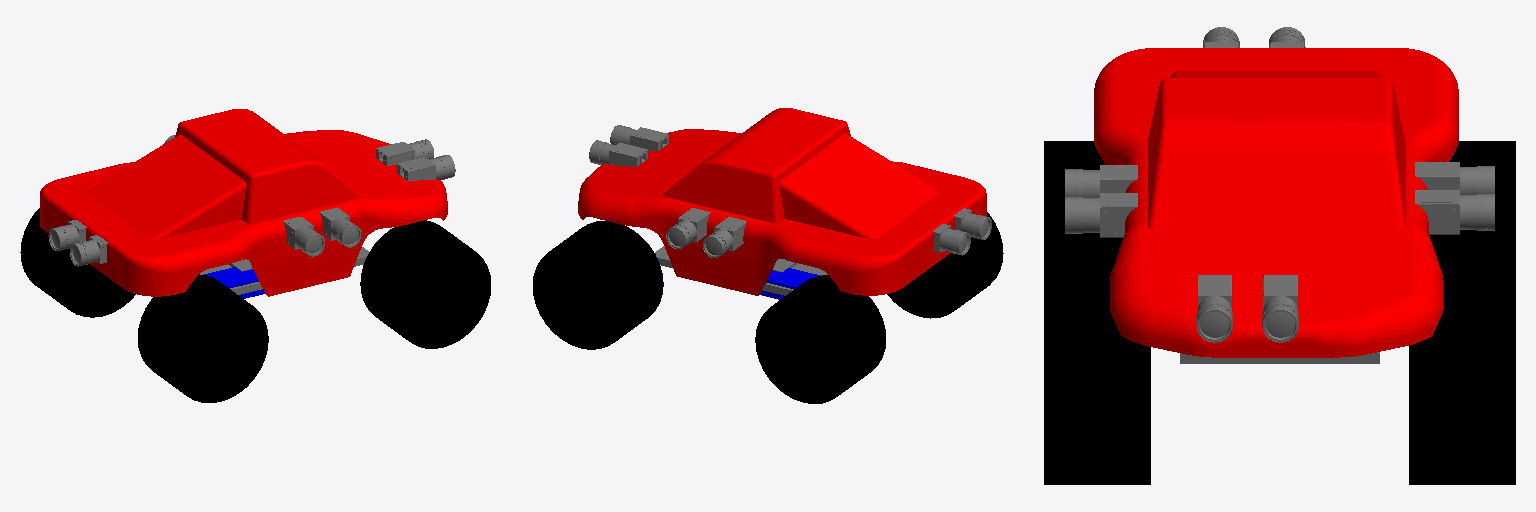
--- Facts derived from the render (not from the file) ---
Views: 3 orthographic renders of the robot side by side, from view 1: azimuth 30°, elevation 25°; view 2: azimuth 150°, elevation 25°; view 3: azimuth 270°, elevation 25°.
Model em_3905 with 29 links and 28 joints (2 revolute, 4 continuous, 4 prismatic, 18 fixed), rooted at base_link, posed all joints at 0.
Links seen in each view (by area): view 1: body, right_front_wheel, right_rear_wheel, left_rear_wheel, basler_basler_r, stereo_basler2, basler2_basler_r, stereo_basler, stereo_basler3, basler3_basler_r, right_battery; view 2: body, left_front_wheel, left_rear_wheel, right_rear_wheel, stereo_basler, basler4_basler_r, stereo_basler4, basler_basler_r, basler3_basler_r, stereo_basler3, left_battery, chassis; view 3: body, left_front_wheel, right_front_wheel, left_rear_wheel, right_rear_wheel, basler4_basler_r, stereo_basler2, stereo_basler, basler_basler_r, stereo_basler4, basler2_basler_r, chassis (+2 smaller).
Boxes of the visible links, bbox=[...] form: body: bbox=[40, 109, 447, 296]; right_front_wheel: bbox=[360, 220, 490, 348]; right_rear_wheel: bbox=[138, 274, 268, 402]; left_rear_wheel: bbox=[20, 208, 135, 317]; basler_basler_r: bbox=[397, 155, 455, 180]; stereo_basler2: bbox=[319, 207, 361, 247]; basler2_basler_r: bbox=[283, 217, 324, 256]; stereo_basler: bbox=[376, 139, 433, 165]; stereo_basler3: bbox=[70, 235, 107, 266]; basler3_basler_r: bbox=[48, 220, 86, 250]; right_battery: bbox=[204, 267, 265, 298]; body: bbox=[578, 108, 986, 295]; left_front_wheel: bbox=[533, 221, 663, 349]; left_rear_wheel: bbox=[755, 275, 885, 403]; right_rear_wheel: bbox=[887, 212, 1003, 318]; stereo_basler: bbox=[589, 140, 647, 166]; basler4_basler_r: bbox=[666, 208, 710, 249]; stereo_basler4: bbox=[703, 217, 746, 257]; basler_basler_r: bbox=[610, 125, 668, 151]; basler3_basler_r: bbox=[933, 224, 970, 255]; stereo_basler3: bbox=[954, 208, 991, 239]; left_battery: bbox=[759, 268, 820, 299]; chassis: bbox=[655, 246, 827, 295]; body: bbox=[1094, 48, 1458, 357]; left_front_wheel: bbox=[1409, 311, 1515, 484]; right_front_wheel: bbox=[1044, 311, 1150, 484]; left_rear_wheel: bbox=[1429, 141, 1515, 310]; right_rear_wheel: bbox=[1044, 141, 1122, 310]; basler4_basler_r: bbox=[1415, 190, 1494, 234]; stereo_basler2: bbox=[1065, 193, 1137, 237]; stereo_basler: bbox=[1262, 275, 1298, 342]; basler_basler_r: bbox=[1196, 275, 1232, 342]; stereo_basler4: bbox=[1415, 162, 1494, 194]; basler2_basler_r: bbox=[1065, 165, 1137, 197]; chassis: bbox=[1180, 352, 1379, 363].
Size in the robot's own frame: 0.56 by 0.3939 by 0.2619 metres.
Meshes: 2 distinct files referenced, 9 mesh visuals loaded (2 binary STL).

The robot description file, URDF, robot "em_3905":
<?xml version="1.0" ?>
<!-- =================================================================================== -->
<!-- |    This document was autogenerated by xacro from em_3905.urdf.xacro             | -->
<!-- |    EDITING THIS FILE BY HAND IS NOT RECOMMENDED                                 | -->
<!-- =================================================================================== -->
<!-- em_3905.urdf.xacro

This file defines a model of a Traxxas(R) E-Maxx(R) #3905 RC (Radio Controlled)
truck.

Lengths are measured in meters, angles are measured in radians, and masses are
measured in kilograms. All of these values are approximations.

To work with Gazebo, each link must have an inertial element, even if
the link only serves to connect two joints. To be visible in Gazebo, a link
must have a collision element. Furthermore, the link must have a Gazebo
material.

Traxxas(R), E-Maxx(R), and Titan(R) are registered trademarks of Traxxas
Management, LLC. em_3905.urdf.xacro was independently created by Wunderkammer
Laboratory, and neither em_3905.urdf.xacro nor Wunderkammer Laboratory is
affiliated with, sponsored by, approved by, or endorsed by Traxxas Management,
LLC. Mabuchi Motor(R) is a registered trademark of Mabuchi Motor Co., Ltd.
Corporation Japan. All other trademarks and service marks are the property of
their respective owners.

Copyright (c) 2011-2013 Wunderkammer Laboratory

Licensed under the Apache License, Version 2.0 (the "License");
you may not use this file except in compliance with the License.
You may obtain a copy of the License at

  http://www.apache.org/licenses/LICENSE-2.0

Unless required by applicable law or agreed to in writing, software
distributed under the License is distributed on an "AS IS" BASIS,
WITHOUT WARRANTIES OR CONDITIONS OF ANY KIND, either express or implied.
See the License for the specific language governing permissions and
limitations under the License.
-->
<robot name="em_3905" xmlns:xacro="http://ros.org/wiki/xacro">
  <!-- include files -->
  <!-- Degree-to-radian conversions -->
  <!-- User define Stereo_Cam1 -->
  <!-- stereo_camera_model&param_macro -->
  <!-- Create stereo_basler model -->
  <link name="stereo_basler">
    <visual>
      <origin rpy="1.570795 0 3.14159" xyz="0 -0.015 -0.015"/>
      <geometry>
        <mesh filename="package://ackermann_vehicle_description/urdf/meshes/basler.stl"/>
      </geometry>
      <material name="chassis_mat"/>
    </visual>
  </link>
  <joint name="basler_basler_l_to_basler_r" type="fixed">
    <parent link="stereo_basler"/>
    <child link="basler_basler_r"/>
  </joint>
  <link name="basler_basler_r">
    <visual>
      <origin rpy="1.570795 0 3.14159" xyz="0 -0.07 -0.015"/>
      <geometry>
        <mesh filename="package://ackermann_vehicle_description/urdf/meshes/basler.stl"/>
      </geometry>
      <material name="chassis_mat"/>
    </visual>
  </link>
  <!--optical position parameter-->
  <joint name="basler_optical_joint" type="fixed">
    <origin rpy="0 0 0" xyz="0 0 0"/>
    <parent link="stereo_basler"/>
    <child link="basler_frame_optical"/>
  </joint>
  <link name="basler_frame_optical"/>
  <!--camera sensor parameter-->
  <gazebo reference="basler_frame_optical">
    <sensor name="basler_stereo_camera" type="multicamera">
      <update_rate>30.0</update_rate>
      <camera name="left">
        <pose>0 0 0 0 0 0</pose>
        <!--pose>0 0.155 0 0 0 0</pose-->
        <horizontal_fov>1.57079633</horizontal_fov>
        <image>
          <width>640</width>
          <height>480</height>
          <format>R8G8B8</format>
        </image>
        <clip>
          <near>0.02</near>
          <far>300</far>
        </clip>
        <noise>
          <type>gaussian</type>
          <mean>0.0</mean>
          <stddev>0.007</stddev>
        </noise>
      </camera>
      <camera name="right">
        <pose>0 -0.055 0 0 0 0</pose>
        <!--pose>0 0.548 0 3.14 0 0</pose-->
        <horizontal_fov>1.57079633</horizontal_fov>
        <image>
          <width>640</width>
          <height>480</height>
          <format>R8G8B8</format>
        </image>
        <clip>
          <near>0.02</near>
          <far>300</far>
        </clip>
        <noise>
          <type>gaussian</type>
          <mean>0.0</mean>
          <stddev>0.007</stddev>
        </noise>
      </camera>
      <plugin filename="libgazebo_ros_multicamera.so" name="stereo_camera_controller">
        <alwaysOn>true</alwaysOn>
        <updateRate>0.0</updateRate>
        <!--cameraName>multisense_sl/camera</cameraName-->
        <cameraName>multi/camera/basler</cameraName>
        <imageTopicName>image_raw</imageTopicName>
        <cameraInfoTopicName>camera_info</cameraInfoTopicName>
        <frameName>basler_frame_optical</frameName>
        <!--<rightFrameName>${prefix}_frame_optical</rightFrameName>-->
        <foclLength>320.000101</foclLength>
        <hackBaseline>0.055</hackBaseline>
        <distortionK1>0</distortionK1>
        <distortionK2>0</distortionK2>
        <distortionK3>0</distortionK3>
        <distortionT1>0</distortionT1>
        <distortionT2>0</distortionT2>
      </plugin>
    </sensor>
  </gazebo>
  <!-- stereo_camera1_frame_joint -->
  <joint name="stereo_camera_frame_joint" type="fixed">
    <origin rpy="0 0 0" xyz="0.26 0.0 0.085"/>
    <parent link="base_link"/>
    <child link="stereo_basler"/>
  </joint>
  <!-- Create stereo_basler model -->
  <link name="stereo_basler2">
    <visual>
      <origin rpy="1.570795 0 3.14159" xyz="0 -0.015 -0.015"/>
      <geometry>
        <mesh filename="package://ackermann_vehicle_description/urdf/meshes/basler.stl"/>
      </geometry>
      <material name="chassis_mat"/>
    </visual>
  </link>
  <joint name="basler2_basler_l_to_basler_r" type="fixed">
    <parent link="stereo_basler2"/>
    <child link="basler2_basler_r"/>
  </joint>
  <link name="basler2_basler_r">
    <visual>
      <origin rpy="1.570795 0 3.14159" xyz="0 -0.07 -0.015"/>
      <geometry>
        <mesh filename="package://ackermann_vehicle_description/urdf/meshes/basler.stl"/>
      </geometry>
      <material name="chassis_mat"/>
    </visual>
  </link>
  <!--optical position parameter-->
  <joint name="basler2_optical_joint" type="fixed">
    <origin rpy="0 0 0" xyz="0 0 0"/>
    <parent link="stereo_basler2"/>
    <child link="basler2_frame_optical"/>
  </joint>
  <link name="basler2_frame_optical"/>
  <!--camera sensor parameter-->
  <gazebo reference="basler2_frame_optical">
    <sensor name="basler2_stereo_camera" type="multicamera">
      <update_rate>30.0</update_rate>
      <camera name="left">
        <pose>0 0 0 0 0 0</pose>
        <!--pose>0 0.155 0 0 0 0</pose-->
        <horizontal_fov>1.57079633</horizontal_fov>
        <image>
          <width>640</width>
          <height>480</height>
          <format>R8G8B8</format>
        </image>
        <clip>
          <near>0.02</near>
          <far>300</far>
        </clip>
        <noise>
          <type>gaussian</type>
          <mean>0.0</mean>
          <stddev>0.007</stddev>
        </noise>
      </camera>
      <camera name="right">
        <pose>0 -0.055 0 0 0 0</pose>
        <!--pose>0 0.548 0 3.14 0 0</pose-->
        <horizontal_fov>1.57079633</horizontal_fov>
        <image>
          <width>640</width>
          <height>480</height>
          <format>R8G8B8</format>
        </image>
        <clip>
          <near>0.02</near>
          <far>300</far>
        </clip>
        <noise>
          <type>gaussian</type>
          <mean>0.0</mean>
          <stddev>0.007</stddev>
        </noise>
      </camera>
      <plugin filename="libgazebo_ros_multicamera.so" name="stereo_camera_controller">
        <alwaysOn>true</alwaysOn>
        <updateRate>0.0</updateRate>
        <!--cameraName>multisense_sl/camera</cameraName-->
        <cameraName>multi/camera/basler2</cameraName>
        <imageTopicName>image_raw</imageTopicName>
        <cameraInfoTopicName>camera_info</cameraInfoTopicName>
        <frameName>basler2_frame_optical</frameName>
        <!--<rightFrameName>${prefix}_frame_optical</rightFrameName>-->
        <foclLength>320.000101</foclLength>
        <hackBaseline>0.055</hackBaseline>
        <distortionK1>0</distortionK1>
        <distortionK2>0</distortionK2>
        <distortionK3>0</distortionK3>
        <distortionT1>0</distortionT1>
        <distortionT2>0</distortionT2>
      </plugin>
    </sensor>
  </gazebo>
  <joint name="stereo_camera2_frame_joint" type="fixed">
    <origin rpy="0 0 4.71238633" xyz="0.04 -0.18 0.085"/>
    <parent link="base_link"/>
    <child link="stereo_basler2"/>
  </joint>
  <!-- Create stereo_basler model -->
  <link name="stereo_basler3">
    <visual>
      <origin rpy="1.570795 0 3.14159" xyz="0 -0.015 -0.015"/>
      <geometry>
        <mesh filename="package://ackermann_vehicle_description/urdf/meshes/basler.stl"/>
      </geometry>
      <material name="chassis_mat"/>
    </visual>
  </link>
  <joint name="basler3_basler_l_to_basler_r" type="fixed">
    <parent link="stereo_basler3"/>
    <child link="basler3_basler_r"/>
  </joint>
  <link name="basler3_basler_r">
    <visual>
      <origin rpy="1.570795 0 3.14159" xyz="0 -0.07 -0.015"/>
      <geometry>
        <mesh filename="package://ackermann_vehicle_description/urdf/meshes/basler.stl"/>
      </geometry>
      <material name="chassis_mat"/>
    </visual>
  </link>
  <!--optical position parameter-->
  <joint name="basler3_optical_joint" type="fixed">
    <origin rpy="0 0 0" xyz="0 0 0"/>
    <parent link="stereo_basler3"/>
    <child link="basler3_frame_optical"/>
  </joint>
  <link name="basler3_frame_optical"/>
  <!--camera sensor parameter-->
  <gazebo reference="basler3_frame_optical">
    <sensor name="basler3_stereo_camera" type="multicamera">
      <update_rate>30.0</update_rate>
      <camera name="left">
        <pose>0 0 0 0 0 0</pose>
        <!--pose>0 0.155 0 0 0 0</pose-->
        <horizontal_fov>1.57079633</horizontal_fov>
        <image>
          <width>640</width>
          <height>480</height>
          <format>R8G8B8</format>
        </image>
        <clip>
          <near>0.02</near>
          <far>300</far>
        </clip>
        <noise>
          <type>gaussian</type>
          <mean>0.0</mean>
          <stddev>0.007</stddev>
        </noise>
      </camera>
      <camera name="right">
        <pose>0 -0.055 0 0 0 0</pose>
        <!--pose>0 0.548 0 3.14 0 0</pose-->
        <horizontal_fov>1.57079633</horizontal_fov>
        <image>
          <width>640</width>
          <height>480</height>
          <format>R8G8B8</format>
        </image>
        <clip>
          <near>0.02</near>
          <far>300</far>
        </clip>
        <noise>
          <type>gaussian</type>
          <mean>0.0</mean>
          <stddev>0.007</stddev>
        </noise>
      </camera>
      <plugin filename="libgazebo_ros_multicamera.so" name="stereo_camera_controller">
        <alwaysOn>true</alwaysOn>
        <updateRate>0.0</updateRate>
        <!--cameraName>multisense_sl/camera</cameraName-->
        <cameraName>multi/camera/basler3</cameraName>
        <imageTopicName>image_raw</imageTopicName>
        <cameraInfoTopicName>camera_info</cameraInfoTopicName>
        <frameName>basler3_frame_optical</frameName>
        <!--<rightFrameName>${prefix}_frame_optical</rightFrameName>-->
        <foclLength>320.000101</foclLength>
        <hackBaseline>0.055</hackBaseline>
        <distortionK1>0</distortionK1>
        <distortionK2>0</distortionK2>
        <distortionK3>0</distortionK3>
        <distortionT1>0</distortionT1>
        <distortionT2>0</distortionT2>
      </plugin>
    </sensor>
  </gazebo>
  <joint name="stereo_camera3_frame_joint" type="fixed">
    <origin rpy="0 0 3.14159" xyz="-0.3 -0.0485 0.085"/>
    <parent link="base_link"/>
    <child link="stereo_basler3"/>
  </joint>
  <!-- Create stereo_basler model -->
  <link name="stereo_basler4">
    <visual>
      <origin rpy="1.570795 0 3.14159" xyz="0 -0.015 -0.015"/>
      <geometry>
        <mesh filename="package://ackermann_vehicle_description/urdf/meshes/basler.stl"/>
      </geometry>
      <material name="chassis_mat"/>
    </visual>
  </link>
  <joint name="basler4_basler_l_to_basler_r" type="fixed">
    <parent link="stereo_basler4"/>
    <child link="basler4_basler_r"/>
  </joint>
  <link name="basler4_basler_r">
    <visual>
      <origin rpy="1.570795 0 3.14159" xyz="0 -0.07 -0.015"/>
      <geometry>
        <mesh filename="package://ackermann_vehicle_description/urdf/meshes/basler.stl"/>
      </geometry>
      <material name="chassis_mat"/>
    </visual>
  </link>
  <!--optical position parameter-->
  <joint name="basler4_optical_joint" type="fixed">
    <origin rpy="0 0 0" xyz="0 0 0"/>
    <parent link="stereo_basler4"/>
    <child link="basler4_frame_optical"/>
  </joint>
  <link name="basler4_frame_optical"/>
  <!--camera sensor parameter-->
  <gazebo reference="basler4_frame_optical">
    <sensor name="basler4_stereo_camera" type="multicamera">
      <update_rate>30.0</update_rate>
      <camera name="left">
        <pose>0 0 0 0 0 0</pose>
        <!--pose>0 0.155 0 0 0 0</pose-->
        <horizontal_fov>1.57079633</horizontal_fov>
        <image>
          <width>640</width>
          <height>480</height>
          <format>R8G8B8</format>
        </image>
        <clip>
          <near>0.02</near>
          <far>300</far>
        </clip>
        <noise>
          <type>gaussian</type>
          <mean>0.0</mean>
          <stddev>0.007</stddev>
        </noise>
      </camera>
      <camera name="right">
        <pose>0 -0.055 0 0 0 0</pose>
        <!--pose>0 0.548 0 3.14 0 0</pose-->
        <horizontal_fov>1.57079633</horizontal_fov>
        <image>
          <width>640</width>
          <height>480</height>
          <format>R8G8B8</format>
        </image>
        <clip>
          <near>0.02</near>
          <far>300</far>
        </clip>
        <noise>
          <type>gaussian</type>
          <mean>0.0</mean>
          <stddev>0.007</stddev>
        </noise>
      </camera>
      <plugin filename="libgazebo_ros_multicamera.so" name="stereo_camera_controller">
        <alwaysOn>true</alwaysOn>
        <updateRate>0.0</updateRate>
        <!--cameraName>multisense_sl/camera</cameraName-->
        <cameraName>multi/camera/basler4</cameraName>
        <imageTopicName>image_raw</imageTopicName>
        <cameraInfoTopicName>camera_info</cameraInfoTopicName>
        <frameName>basler4_frame_optical</frameName>
        <!--<rightFrameName>${prefix}_frame_optical</rightFrameName>-->
        <foclLength>320.000101</foclLength>
        <hackBaseline>0.055</hackBaseline>
        <distortionK1>0</distortionK1>
        <distortionK2>0</distortionK2>
        <distortionK3>0</distortionK3>
        <distortionT1>0</distortionT1>
        <distortionT2>0</distortionT2>
      </plugin>
    </sensor>
  </gazebo>
  <joint name="stereo_camera4_frame_joint" type="fixed">
    <origin rpy="0 0 1.570795" xyz="-0.02 0.18 0.085"/>
    <parent link="base_link"/>
    <child link="stereo_basler4"/>
  </joint>
  <!-- chassis_length is measured along the x axis, chassis_width
       along the y axis, and chassis_height along the z axis. -->
  <!-- battery_dist is the distance between the inner edges of the
       batteries. battery_comp_depth is the battery compartment depth.
       battery_length is measured along the x axis, battery_width
       along the y axis, and battery_height along the z axis. 

  <xacro:property name="battery_comp_angle" value="0.34906585"/>

-->
  <!-- hub_dia and tire_dia are the diameters of the hub and tire,
       respectively. hex_hub_depth is the distance that the hex hub is
       inset from the outer edge of the tire. It is set so that each wheel
       is a "zero offset" wheel. hex_hub_depth = tire_width / 2 -
       axle_length. -->
  <!-- hex_hub_dist is the distance between left and right hex hubs when
       the shock absorbers are fully extended. axle_length is the distance
       from a U joint to the corresponding hex hub. wheel_travel is the
       vertical wheel travel. -->
  <!-- shock_eff_limit is 2 * ((shock_stroke / 2) * shock_spring_constant) N.
       shock_stroke is 0.028575 meters. shock_spring_constant, an approximation
       of a Traxxas Ultra Shock shock absorber spring's constant, is
       437.817 N/m. -->
  <!-- The specifications for a Titan(R) 550 motor could not be found, so the
       stall torque of a Mabuchi Motor(R) RS-550VC-7525 motor was used instead.

       num_spur_gear_teeth = 68
       num_pinion_gear_teeth = 19
       final_gear_ratio = (num_spur_gear_teeth / num_pinion_gear_teeth) *
         5.22 = 18.68
       stall_torque = 0.549 N m
       axle_eff_limit = ((2 * stall_torque) * final_gear_ratio) / 4 =
         5.12766 N m

       max_speed = 40 mph (30+ mph) = 17.8816 m/s
       axle_vel_limit = (2 * pi) * (max_speed / (pi * tire_dia)) =
         244.8696 rad/s -->
  <!-- These constants are used to simulate a Traxxas 2056 servo operated at
       6 V. servo_stall_torque is measured in N m. servo_no_load_speed is
       measured in rad/s. -->
  <!-- ctrl_period is gazebo_ros_control's control period. Unit: hertz. -->
  <material name="battery_mat">
    <color rgba="0 0 1 1"/>
  </material>
  <material name="chassis_mat">
    <color rgba="0.5 0.5 0.5 1"/>
  </material>
  <material name="body_mat">
    <color rgba="1 0 0 1"/>
  </material>
  <material name="tire_mat">
    <color rgba="0 0 0 1"/>
  </material>
  <!-- Null inertial element. This is needed to make the model work with
       Gazebo. -->
  <!-- Inertia of a solid cuboid. Width is measured along the x axis, depth
       along the y axis, and height along the z axis. -->
  <!-- Inertia of a thick-walled cylindrical tube with open ends. Height is
       measured along the z axis, which is the tube's axis. inner_rad and
       outer_rad are the tube's inner and outer radii, respectively. -->
  <!-- Battery -->
  <!-- Shock absorber -->
  <!-- The "wheel" macro defines an axle carrier, axle, and wheel. -->
  <!-- Front wheel -->
  <!-- Rear wheel -->
  <!-- base_link must have geometry so that its axes can be displayed in
       rviz. 
          <mesh><uri>model://meshes/body.stl</uri>
          <scale>1.8 1.8 1.8</scale>

-->
  <link name="base_link">
    <visual>
      <geometry>
        <box size="0.1 0.1 0.01"/>
      </geometry>
      <material name="chassis_mat"/>
    </visual>
  </link>
  <gazebo reference="base_link">
    <material>Gazebo/Grey</material>
  </gazebo>
  <!-- Chassis -->
  <link name="chassis">
    <visual>
      <origin xyz="0 0 -0.005"/>
      <geometry>
        <box size="0.258 0.168 0.01"/>
      </geometry>
      <material name="chassis_mat"/>
    </visual>
    <collision>
      <origin xyz="0 0 -0.005"/>
      <geometry>
        <box size="0.258 0.168 0.01"/>
      </geometry>
    </collision>
    <inertial>
      <origin xyz="0 0 -0.005"/>
      <mass value="2.788"/>
      <inertia ixx="0.00658060933333" ixy="0" ixz="0" iyy="0.0154882693333" iyz="0" izz="0.022022412"/>
    </inertial>
  </link>
  <gazebo reference="chassis">
    <material>Gazebo/Grey</material>
  </gazebo>
  <joint name="base_link_to_chasis" type="fixed">
    <parent link="base_link"/>
    <child link="chassis"/>
  </joint>
  <!-- body -->
  <link name="body">
    <visual>
      <origin rpy="1.57 0 -1.57" xyz="0.25 0.15 0.0"/>
      <geometry>
        <mesh filename="package://ackermann_vehicle_description/urdf/meshes/body.stl"/>
      </geometry>
      <material name="body_mat"/>
    </visual>
  </link>
  <gazebo reference="body">
    <material>Gazebo/Red</material>
  </gazebo>
  <joint name="chasis_link_to_body" type="fixed">
    <parent link="chassis"/>
    <child link="body"/>
  </joint>
  <!-- Batteries -->
  <joint name="chassis_to_left_battery" type="fixed">
    <parent link="chassis"/>
    <child link="left_battery_offset"/>
    <origin rpy="0.0 0 0" xyz="-0.025                    0.0325                    0"/>
  </joint>
  <link name="left_battery_offset">
    <inertial>
      <mass value="0.001"/>
      <inertia ixx="0.001" ixy="0" ixz="0" iyy="0.001" iyz="0" izz="0.001"/>
    </inertial>
  </link>
  <joint name="offset_to_left_battery" type="fixed">
    <parent link="left_battery_offset"/>
    <child link="left_battery"/>
    <origin xyz="0                    0.0235                    -0.008"/>
  </joint>
  <link name="left_battery">
    <visual>
      <geometry>
        <box size="0.16 0.047 0.024"/>
      </geometry>
      <material name="battery_mat"/>
    </visual>
    <collision>
      <geometry>
        <box size="0.16 0.047 0.024"/>
      </geometry>
    </collision>
    <inertial>
      <origin/>
      <mass value="0.5025"/>
      <inertia ixx="0.000116621875" ixy="0" ixz="0" iyy="0.00109612" iyz="0" izz="0.001164501875"/>
    </inertial>
  </link>
  <gazebo reference="left_battery">
    <material>Gazebo/Yellow</material>
  </gazebo>
  <!--   <gazebo reference="${prefix}_battery">
      <material>Gazebo/Blue</material>
    </gazebo>-->
  <joint name="chassis_to_right_battery" type="fixed">
    <parent link="chassis"/>
    <child link="right_battery_offset"/>
    <origin rpy="-0.0 0 0" xyz="-0.025                    -0.0325                    0"/>
  </joint>
  <link name="right_battery_offset">
    <inertial>
      <mass value="0.001"/>
      <inertia ixx="0.001" ixy="0" ixz="0" iyy="0.001" iyz="0" izz="0.001"/>
    </inertial>
  </link>
  <joint name="offset_to_right_battery" type="fixed">
    <parent link="right_battery_offset"/>
    <child link="right_battery"/>
    <origin xyz="0                    -0.0235                    -0.008"/>
  </joint>
  <link name="right_battery">
    <visual>
      <geometry>
        <box size="0.16 0.047 0.024"/>
      </geometry>
      <material name="battery_mat"/>
    </visual>
    <collision>
      <geometry>
        <box size="0.16 0.047 0.024"/>
      </geometry>
    </collision>
    <inertial>
      <origin/>
      <mass value="0.5025"/>
      <inertia ixx="0.000116621875" ixy="0" ixz="0" iyy="0.00109612" iyz="0" izz="0.001164501875"/>
    </inertial>
  </link>
  <gazebo reference="right_battery">
    <material>Gazebo/Yellow</material>
  </gazebo>
  <!--   <gazebo reference="${prefix}_battery">
      <material>Gazebo/Blue</material>
    </gazebo>-->
  <!-- Wheels -->
  <joint name="left_front_shock" type="prismatic">
    <parent link="chassis"/>
    <child link="left_steering_link"/>
    <origin xyz="0.1675                    0.1525                    -0.0235"/>
    <axis xyz="0 0 -1"/>
    <limit effort="12.5106" lower="-0.042" upper="0.042" velocity="1000"/>
  </joint>
  <transmission name="left_front_shock_trans">
    <type>transmission_interface/SimpleTransmission</type>
    <actuator name="left_front_shock_act">
      <mechanicalReduction>1</mechanicalReduction>
    </actuator>
    <joint name="left_front_shock">
      <hardwareInterface>EffortJointInterface</hardwareInterface>
    </joint>
  </transmission>
  <link name="left_steering_link">
    <inertial>
      <mass value="0.001"/>
      <inertia ixx="0.001" ixy="0" ixz="0" iyy="0.001" iyz="0" izz="0.001"/>
    </inertial>
  </link>
  <joint name="left_steering_joint" type="revolute">
    <parent link="left_steering_link"/>
    <child link="left_front_axle_carrier"/>
    <axis xyz="0 0 1"/>
    <limit effort="0.5649" lower="-0.785398163" upper="0.785398163" velocity="4.553"/>
  </joint>
  <transmission name="left_steering_trans">
    <type>transmission_interface/SimpleTransmission</type>
    <actuator name="left_steering_act">
      <mechanicalReduction>1</mechanicalReduction>
    </actuator>
    <joint name="left_steering_joint">
      <hardwareInterface>EffortJointInterface</hardwareInterface>
    </joint>
  </transmission>
  <link name="left_front_axle_carrier">
    <inertial>
      <mass value="0.001"/>
      <inertia ixx="0.001" ixy="0" ixz="0" iyy="0.001" iyz="0" izz="0.001"/>
    </inertial>
  </link>
  <!-- The left and right axles have the same axis so that identical
         rotation values cause the wheels to rotate in the same direction. -->
  <joint name="left_front_axle" type="continuous">
    <parent link="left_front_axle_carrier"/>
    <child link="left_front_wheel"/>
    <origin rpy="1.57079633 0 0"/>
    <axis xyz="0 0 -1"/>
    <limit effort="5.12766" velocity="244.8696"/>
  </joint>
  <transmission name="left_front_axle_trans">
    <type>transmission_interface/SimpleTransmission</type>
    <actuator name="left_front_axle_act">
      <mechanicalReduction>1</mechanicalReduction>
    </actuator>
    <joint name="left_front_axle">
      <hardwareInterface>EffortJointInterface</hardwareInterface>
    </joint>
  </transmission>
  <link name="left_front_wheel">
    <visual>
      <origin xyz="0                      -6.93889390391e-18                      0"/>
      <geometry>
        <cylinder length="0.0889" radius="0.073025"/>
      </geometry>
      <material name="tire_mat"/>
    </visual>
    <collision>
      <origin xyz="0                      -6.93889390391e-18                      0"/>
      <geometry>
        <cylinder length="0.0889" radius="0.073025"/>
      </geometry>
    </collision>
    <inertial>
      <mass value="0.29"/>
      <inertia ixx="0.000746465912979" ixy="0" ixz="0" iyy="0.000746465912979" iyz="0" izz="0.00111094334263"/>
    </inertial>
  </link>
  <gazebo reference="left_front_wheel">
    <material>Gazebo/Black</material>
  </gazebo>
  <joint name="right_front_shock" type="prismatic">
    <parent link="chassis"/>
    <child link="right_steering_link"/>
    <origin xyz="0.1675                    -0.1525                    -0.0235"/>
    <axis xyz="0 0 -1"/>
    <limit effort="12.5106" lower="-0.042" upper="0.042" velocity="1000"/>
  </joint>
  <transmission name="right_front_shock_trans">
    <type>transmission_interface/SimpleTransmission</type>
    <actuator name="right_front_shock_act">
      <mechanicalReduction>1</mechanicalReduction>
    </actuator>
    <joint name="right_front_shock">
      <hardwareInterface>EffortJointInterface</hardwareInterface>
    </joint>
  </transmission>
  <link name="right_steering_link">
    <inertial>
      <mass value="0.001"/>
      <inertia ixx="0.001" ixy="0" ixz="0" iyy="0.001" iyz="0" izz="0.001"/>
    </inertial>
  </link>
  <joint name="right_steering_joint" type="revolute">
    <parent link="right_steering_link"/>
    <child link="right_front_axle_carrier"/>
    <axis xyz="0 0 1"/>
    <limit effort="0.5649" lower="-0.785398163" upper="0.785398163" velocity="4.553"/>
  </joint>
  <transmission name="right_steering_trans">
    <type>transmission_interface/SimpleTransmission</type>
    <actuator name="right_steering_act">
      <mechanicalReduction>1</mechanicalReduction>
    </actuator>
    <joint name="right_steering_joint">
      <hardwareInterface>EffortJointInterface</hardwareInterface>
    </joint>
  </transmission>
  <link name="right_front_axle_carrier">
    <inertial>
      <mass value="0.001"/>
      <inertia ixx="0.001" ixy="0" ixz="0" iyy="0.001" iyz="0" izz="0.001"/>
    </inertial>
  </link>
  <!-- The left and right axles have the same axis so that identical
         rotation values cause the wheels to rotate in the same direction. -->
  <joint name="right_front_axle" type="continuous">
    <parent link="right_front_axle_carrier"/>
    <child link="right_front_wheel"/>
    <origin rpy="1.57079633 0 0"/>
    <axis xyz="0 0 -1"/>
    <limit effort="5.12766" velocity="244.8696"/>
  </joint>
  <transmission name="right_front_axle_trans">
    <type>transmission_interface/SimpleTransmission</type>
    <actuator name="right_front_axle_act">
      <mechanicalReduction>1</mechanicalReduction>
    </actuator>
    <joint name="right_front_axle">
      <hardwareInterface>EffortJointInterface</hardwareInterface>
    </joint>
  </transmission>
  <link name="right_front_wheel">
    <visual>
      <origin xyz="0                      6.93889390391e-18                      0"/>
      <geometry>
        <cylinder length="0.0889" radius="0.073025"/>
      </geometry>
      <material name="tire_mat"/>
    </visual>
    <collision>
      <origin xyz="0                      6.93889390391e-18                      0"/>
      <geometry>
        <cylinder length="0.0889" radius="0.073025"/>
      </geometry>
    </collision>
    <inertial>
      <mass value="0.29"/>
      <inertia ixx="0.000746465912979" ixy="0" ixz="0" iyy="0.000746465912979" iyz="0" izz="0.00111094334263"/>
    </inertial>
  </link>
  <gazebo reference="right_front_wheel">
    <material>Gazebo/Black</material>
  </gazebo>
  <joint name="left_rear_shock" type="prismatic">
    <parent link="chassis"/>
    <child link="left_rear_axle_carrier"/>
    <origin xyz="-0.1675                    0.1525                    -0.0235"/>
    <axis xyz="0 0 -1"/>
    <limit effort="12.5106" lower="-0.042" upper="0.042" velocity="1000"/>
  </joint>
  <transmission name="left_rear_shock_trans">
    <type>transmission_interface/SimpleTransmission</type>
    <actuator name="left_rear_shock_act">
      <mechanicalReduction>1</mechanicalReduction>
    </actuator>
    <joint name="left_rear_shock">
      <hardwareInterface>EffortJointInterface</hardwareInterface>
    </joint>
  </transmission>
  <link name="left_rear_axle_carrier">
    <inertial>
      <mass value="0.001"/>
      <inertia ixx="0.001" ixy="0" ixz="0" iyy="0.001" iyz="0" izz="0.001"/>
    </inertial>
  </link>
  <!-- The left and right axles have the same axis so that identical
         rotation values cause the wheels to rotate in the same direction. -->
  <joint name="left_rear_axle" type="continuous">
    <parent link="left_rear_axle_carrier"/>
    <child link="left_rear_wheel"/>
    <origin rpy="1.57079633 0 0"/>
    <axis xyz="0 0 -1"/>
    <limit effort="5.12766" velocity="244.8696"/>
  </joint>
  <transmission name="left_rear_axle_trans">
    <type>transmission_interface/SimpleTransmission</type>
    <actuator name="left_rear_axle_act">
      <mechanicalReduction>1</mechanicalReduction>
    </actuator>
    <joint name="left_rear_axle">
      <hardwareInterface>EffortJointInterface</hardwareInterface>
    </joint>
  </transmission>
  <link name="left_rear_wheel">
    <visual>
      <origin xyz="0                      -6.93889390391e-18                      0"/>
      <geometry>
        <cylinder length="0.0889" radius="0.073025"/>
      </geometry>
      <material name="tire_mat"/>
    </visual>
    <collision>
      <origin xyz="0                      -6.93889390391e-18                      0"/>
      <geometry>
        <cylinder length="0.0889" radius="0.073025"/>
      </geometry>
    </collision>
    <inertial>
      <mass value="0.29"/>
      <inertia ixx="0.000746465912979" ixy="0" ixz="0" iyy="0.000746465912979" iyz="0" izz="0.00111094334263"/>
    </inertial>
  </link>
  <gazebo reference="left_rear_wheel">
    <material>Gazebo/Black</material>
  </gazebo>
  <joint name="right_rear_shock" type="prismatic">
    <parent link="chassis"/>
    <child link="right_rear_axle_carrier"/>
    <origin xyz="-0.1675                    -0.1525                    -0.0235"/>
    <axis xyz="0 0 -1"/>
    <limit effort="12.5106" lower="-0.042" upper="0.042" velocity="1000"/>
  </joint>
  <transmission name="right_rear_shock_trans">
    <type>transmission_interface/SimpleTransmission</type>
    <actuator name="right_rear_shock_act">
      <mechanicalReduction>1</mechanicalReduction>
    </actuator>
    <joint name="right_rear_shock">
      <hardwareInterface>EffortJointInterface</hardwareInterface>
    </joint>
  </transmission>
  <link name="right_rear_axle_carrier">
    <inertial>
      <mass value="0.001"/>
      <inertia ixx="0.001" ixy="0" ixz="0" iyy="0.001" iyz="0" izz="0.001"/>
    </inertial>
  </link>
  <!-- The left and right axles have the same axis so that identical
         rotation values cause the wheels to rotate in the same direction. -->
  <joint name="right_rear_axle" type="continuous">
    <parent link="right_rear_axle_carrier"/>
    <child link="right_rear_wheel"/>
    <origin rpy="1.57079633 0 0"/>
    <axis xyz="0 0 -1"/>
    <limit effort="5.12766" velocity="244.8696"/>
  </joint>
  <transmission name="right_rear_axle_trans">
    <type>transmission_interface/SimpleTransmission</type>
    <actuator name="right_rear_axle_act">
      <mechanicalReduction>1</mechanicalReduction>
    </actuator>
    <joint name="right_rear_axle">
      <hardwareInterface>EffortJointInterface</hardwareInterface>
    </joint>
  </transmission>
  <link name="right_rear_wheel">
    <visual>
      <origin xyz="0                      6.93889390391e-18                      0"/>
      <geometry>
        <cylinder length="0.0889" radius="0.073025"/>
      </geometry>
      <material name="tire_mat"/>
    </visual>
    <collision>
      <origin xyz="0                      6.93889390391e-18                      0"/>
      <geometry>
        <cylinder length="0.0889" radius="0.073025"/>
      </geometry>
    </collision>
    <inertial>
      <mass value="0.29"/>
      <inertia ixx="0.000746465912979" ixy="0" ixz="0" iyy="0.000746465912979" iyz="0" izz="0.00111094334263"/>
    </inertial>
  </link>
  <gazebo reference="right_rear_wheel">
    <material>Gazebo/Black</material>
  </gazebo>
  <gazebo>
    <plugin filename="libgazebo_ros_control.so" name="gazebo_ros_control">
      <!-- As of 10/7/13, setting controlPeriod to a value greater than
           Gazebo's simulation period prevents the shock absorbers from
           working.
      <controlPeriod>${ctrl_period}</controlPeriod>
      -->
    </plugin>
  </gazebo>
</robot>
